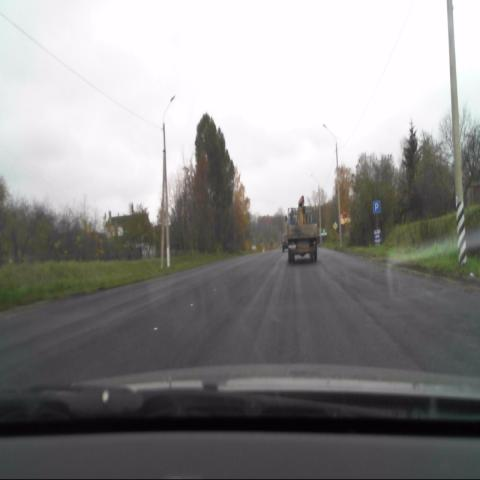6_4: (372, 200, 380, 214)
